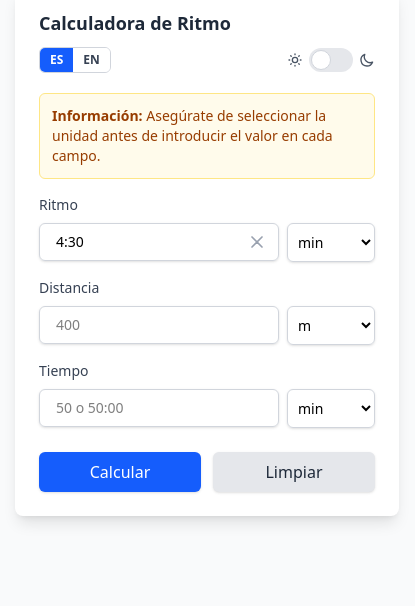
it: Calculator.vue › shows an error when calculating with a single value
Click the button "Calcular".
click(120, 472)  # box [39, 452, 201, 492]
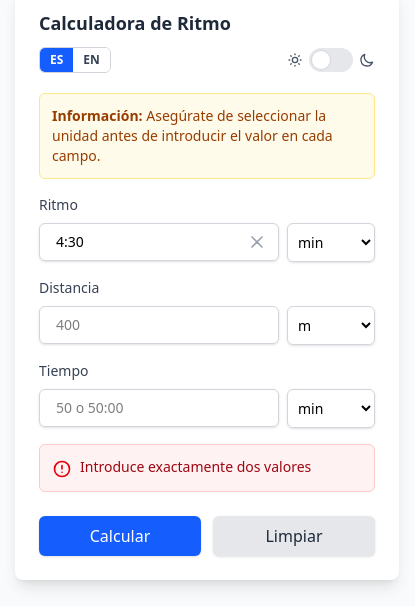
Expected: the message "Introduce exactamente dos valores" is shown, [39, 444, 375, 492]
